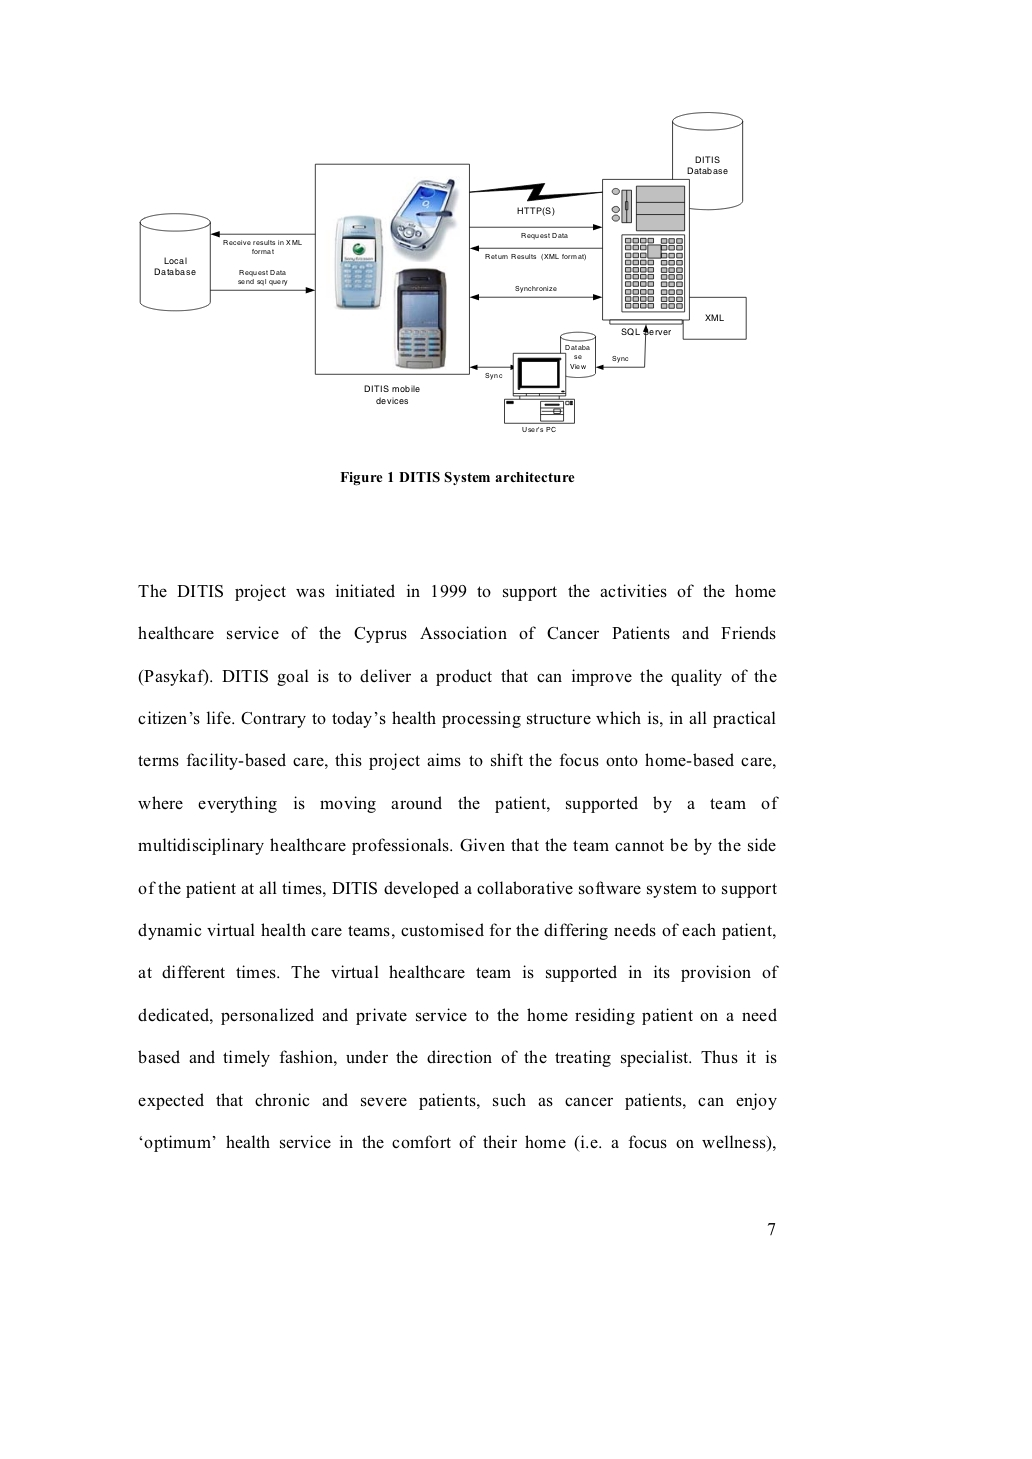figure: (138, 112, 746, 432)
